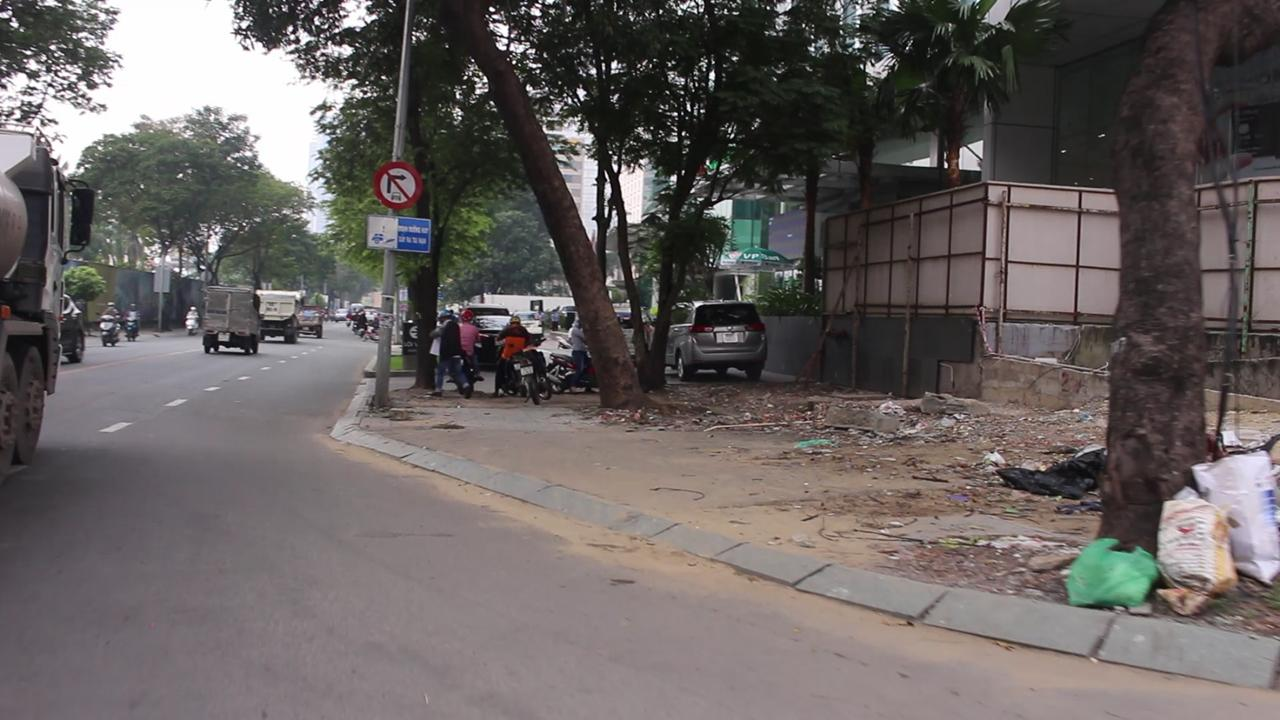P.112: (373, 162, 421, 210)
